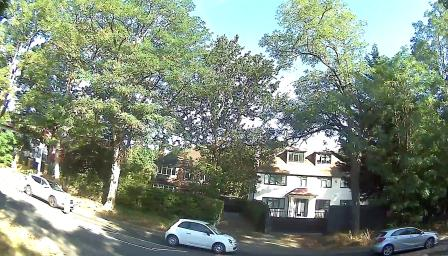Cars: (164, 209, 252, 255), (25, 168, 81, 226), (372, 215, 440, 255)
